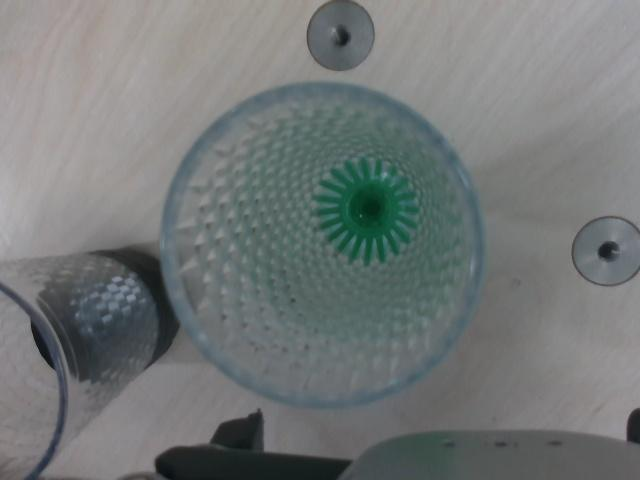black_cup: (29, 251, 181, 382)
green_cup: (310, 158, 424, 265)
